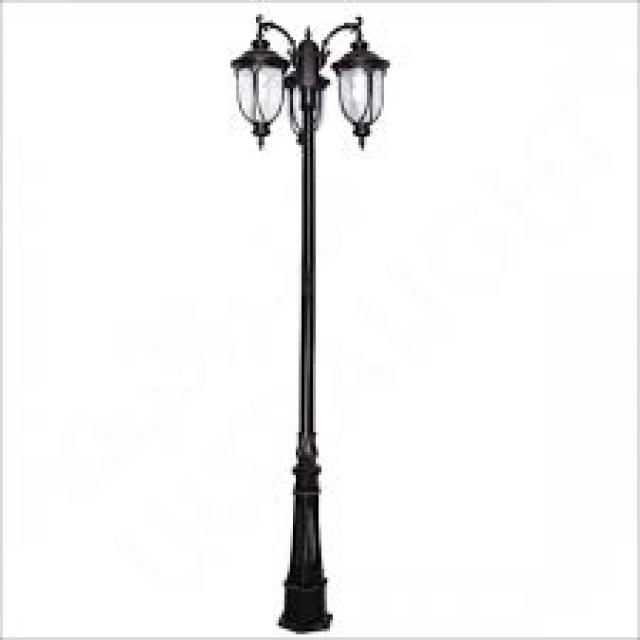Street Light: (230, 11, 392, 634)
